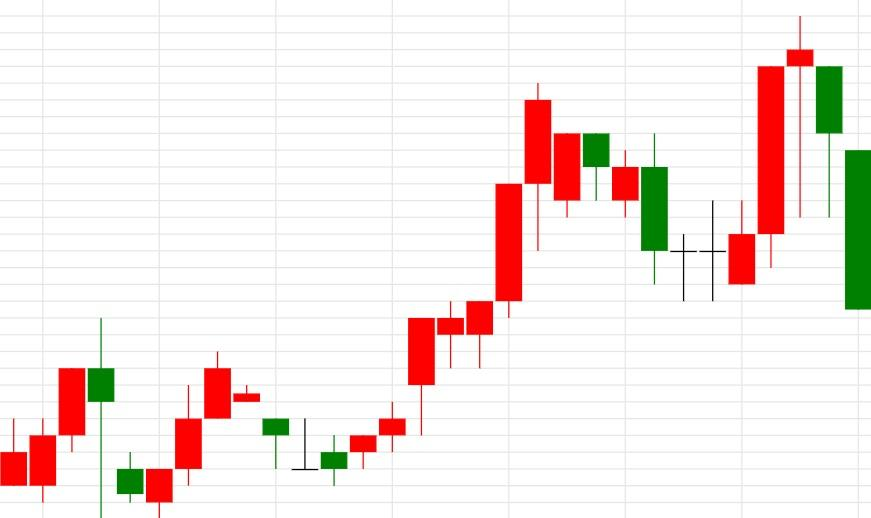three_white_soldiers_rise: (87, 318, 232, 518)
